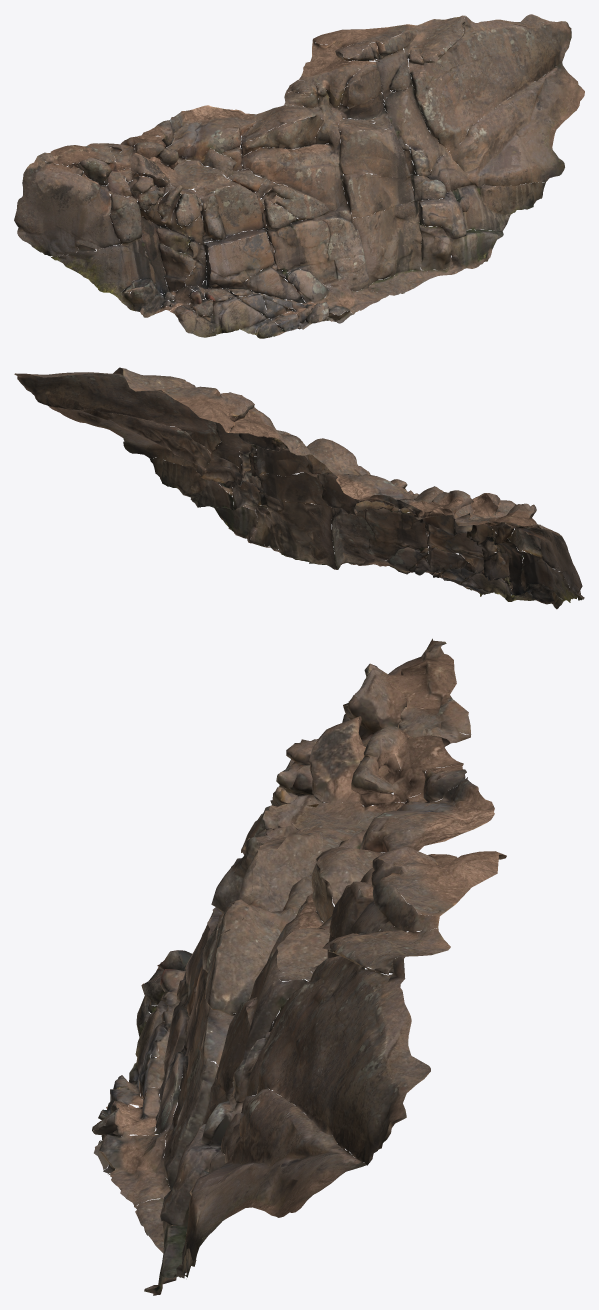
File: namaqualand_cliff_02.glb
3 renders of one model, top to bottom at view 1: azimuth 30°, elevation 25°; view 2: azimuth 150°, elevation 25°; view 3: azimuth 270°, elevation 25°, orthographic. The views are drawn at different scales.
Visible parts, largest first — view 1: drone_rock_02_LOD0; view 2: drone_rock_02_LOD0; view 3: drone_rock_02_LOD0.
Boxes of the visible parts, x1=… form: drone_rock_02_LOD0: x1=14, y1=14, x2=584, y2=338; drone_rock_02_LOD0: x1=14, y1=367, x2=584, y2=609; drone_rock_02_LOD0: x1=92, y1=638, x2=506, y2=1295.
Bounding box in the file's own units: 20.22 × 7.19 × 6.61.
1 material, 1 textured.
